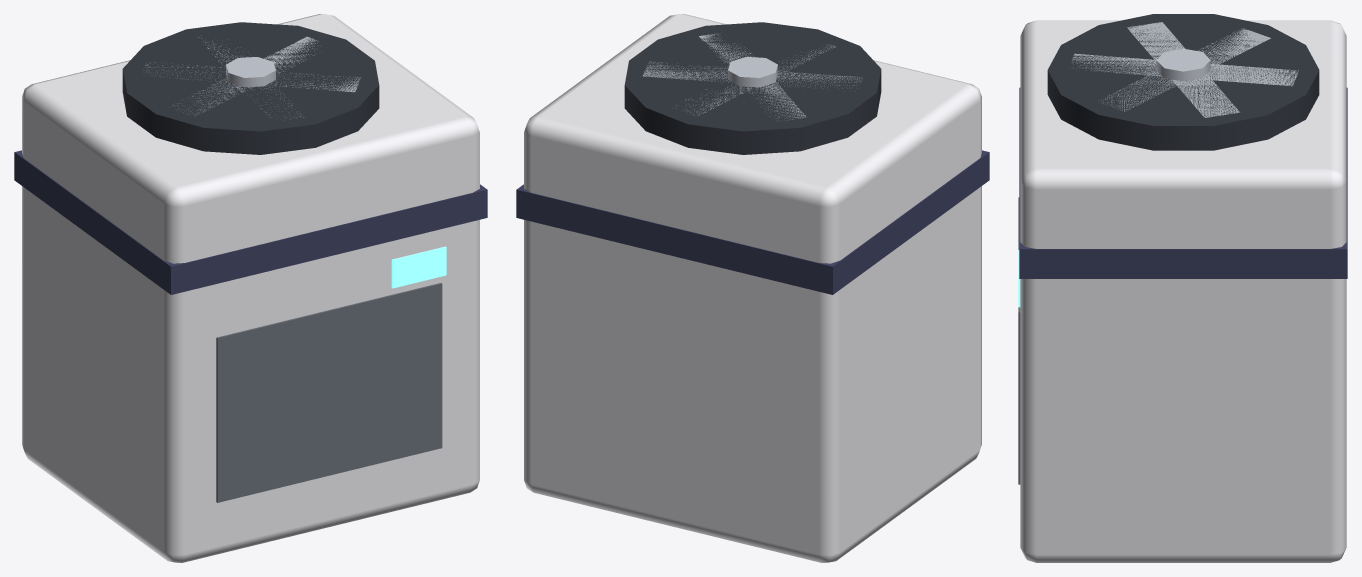
File: station_transport_ausstattung_2_2.glb
3 views of the same model, side by side, from view 1: azimuth 30°, elevation 25°; view 2: azimuth 150°, elevation 25°; view 3: azimuth 270°, elevation 25° (orthographic). The views are drawn at different scales.
Parts seen in each view (by area): view 1: station_transport_ausstattung_2_2; view 2: station_transport_ausstattung_2_2; view 3: station_transport_ausstattung_2_2.
Boxes of the visible parts, x1,y1,x2,y2 form: station_transport_ausstattung_2_2: (14, 14, 487, 562); station_transport_ausstattung_2_2: (516, 14, 989, 562); station_transport_ausstattung_2_2: (1018, 14, 1347, 562).
Bounding box in the file's own units: 0.704 × 0.87 × 0.606.
